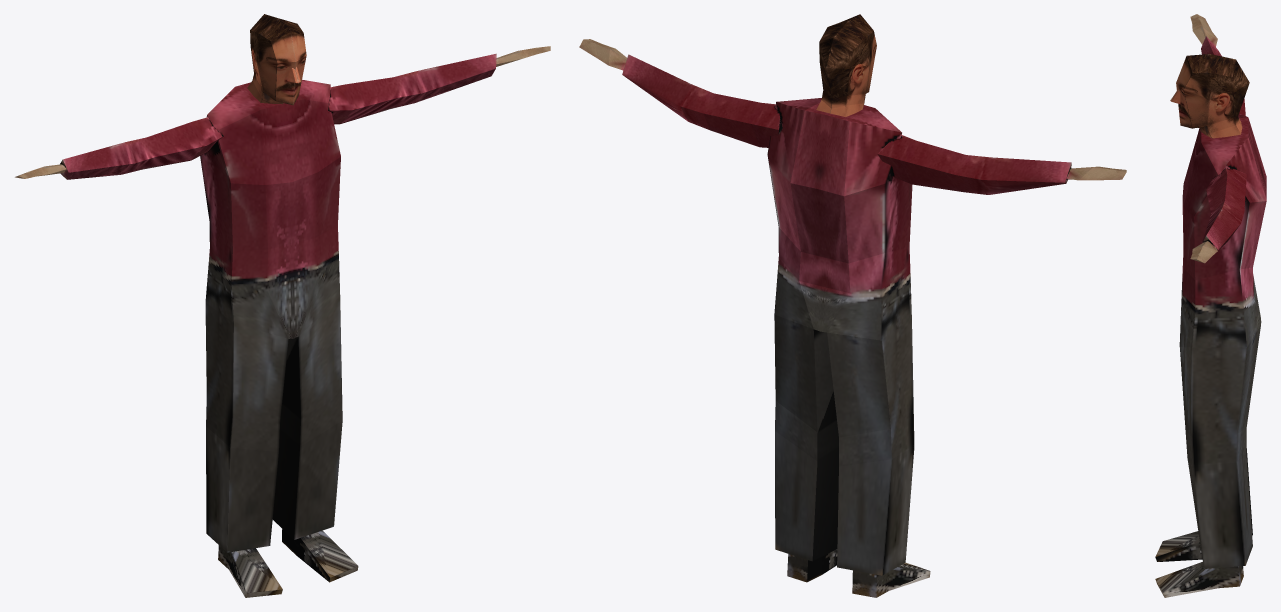
The model's file is avi_body.glb.
The picture shows the model from 3 angles, left to right: view 1: azimuth 30°, elevation 25°; view 2: azimuth 150°, elevation 25°; view 3: azimuth 270°, elevation 25°; orthographic projection. The views are drawn at different scales.
Parts seen in each view (by area): view 1: body.001; view 2: body.001; view 3: body.001.
Boxes of the visible parts, x1=… form: body.001: x1=15, y1=14, x2=550, y2=597; body.001: x1=579, y1=14, x2=1126, y2=597; body.001: x1=1155, y1=14, x2=1266, y2=597.
Size of the model in its own units: 1.91 by 1.89 by 0.3669.
Materials: 1 (1 with a texture image).
